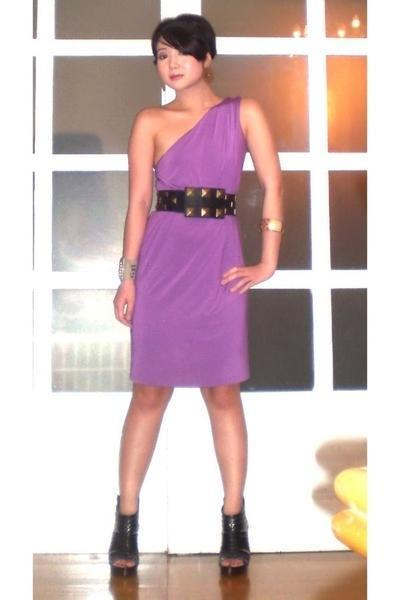dress: (119, 99, 251, 390)
shoe: (109, 496, 251, 599)
